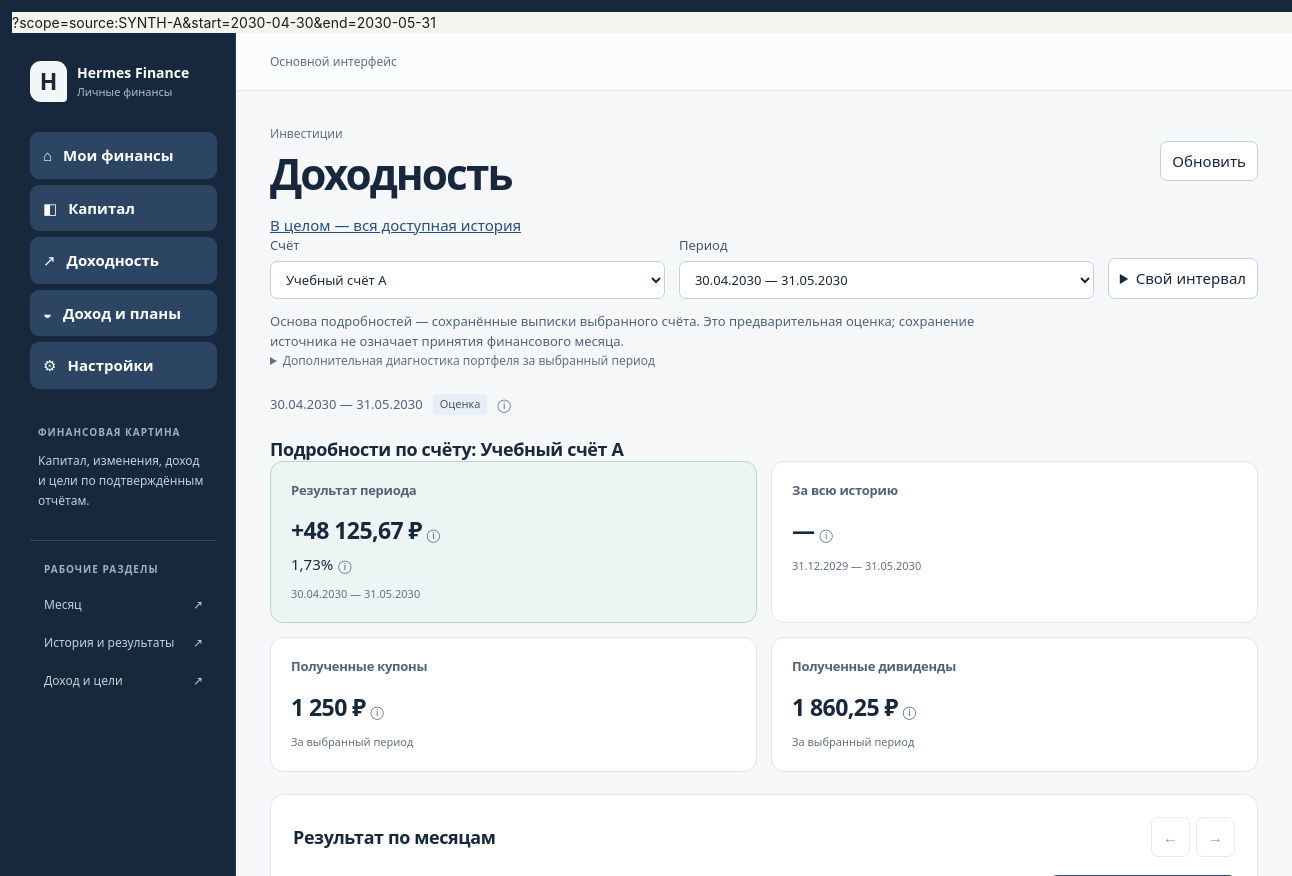
Test: switching accounts replaces a foreign inception with its exact own history
The width and height of the screenshot is (1292, 876).
Expected: the element "Результат периода" is shown, [270,461,757,623]
Select "Учебный счёт Б" in the dropdown labelled "Счёт" at (467, 280), box [270,261,665,299]
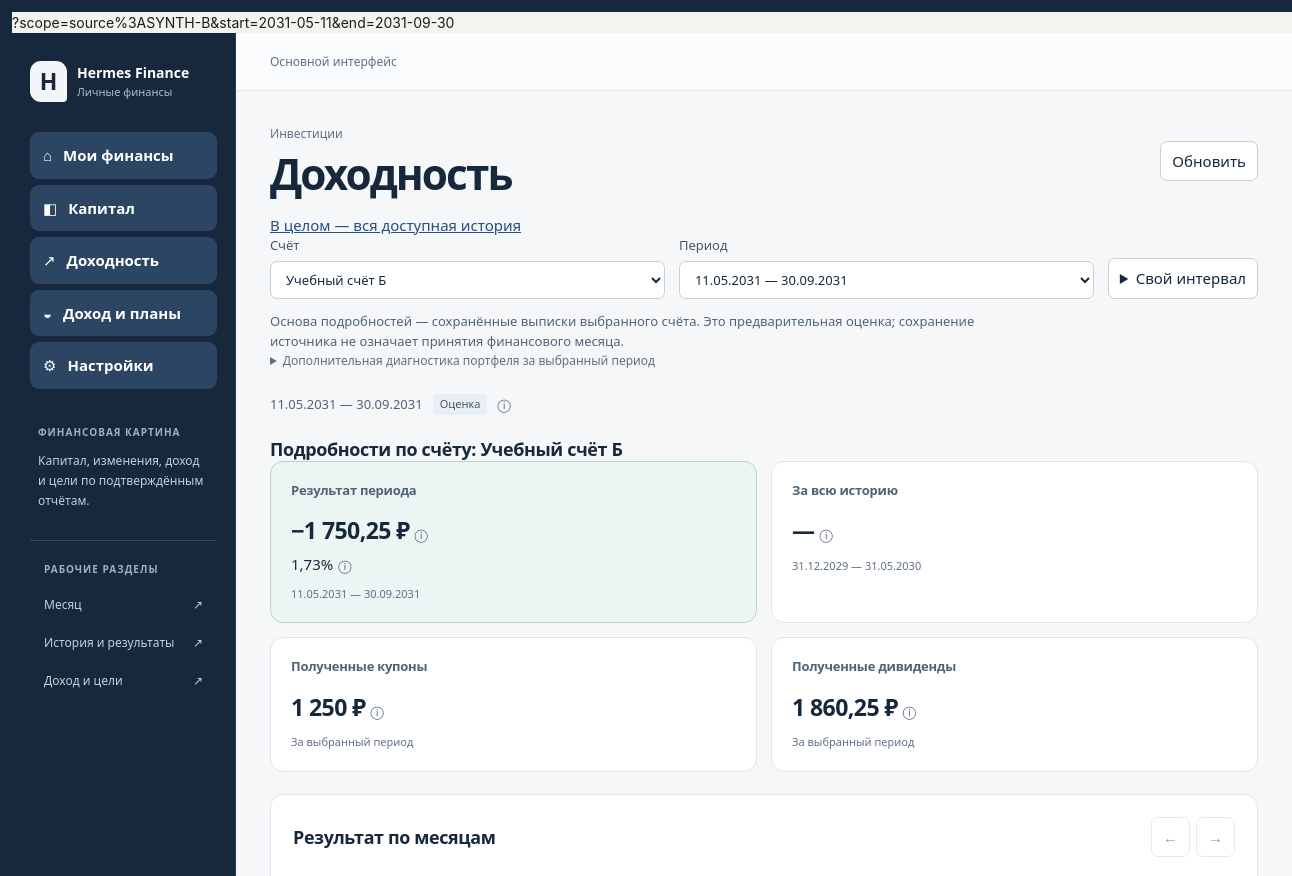
Expected: the element "Результат периода" is shown, [270,461,757,623]
Expected: the text with test id "location" shows "start=2031-05-11&end=2031-09-30", [12,14,454,31]
